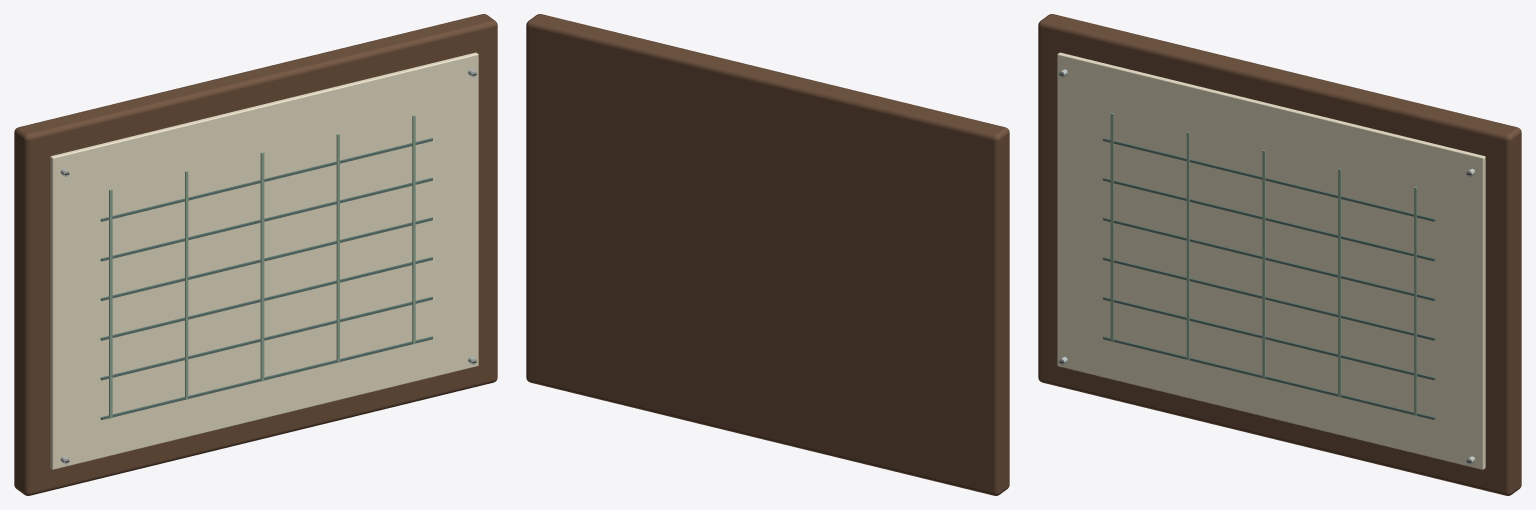
Rendered from abandoned-telephone-exchange-exchange-plan-board-07adf048__32017.glb.
3 views of the same model, side by side, from view 1: azimuth 30°, elevation 25°; view 2: azimuth 150°, elevation 25°; view 3: azimuth 330°, elevation 25° (orthographic).
Parts seen in each view (by area): view 1: exchange-plan-board; view 2: exchange-plan-board; view 3: exchange-plan-board.
Boxes of the visible parts, x1=… form: exchange-plan-board: x1=14, y1=14, x2=497, y2=495; exchange-plan-board: x1=526, y1=14, x2=1009, y2=495; exchange-plan-board: x1=1038, y1=14, x2=1521, y2=495.
Bounding box in the file's own units: 1 × 0.7299 × 0.08.
